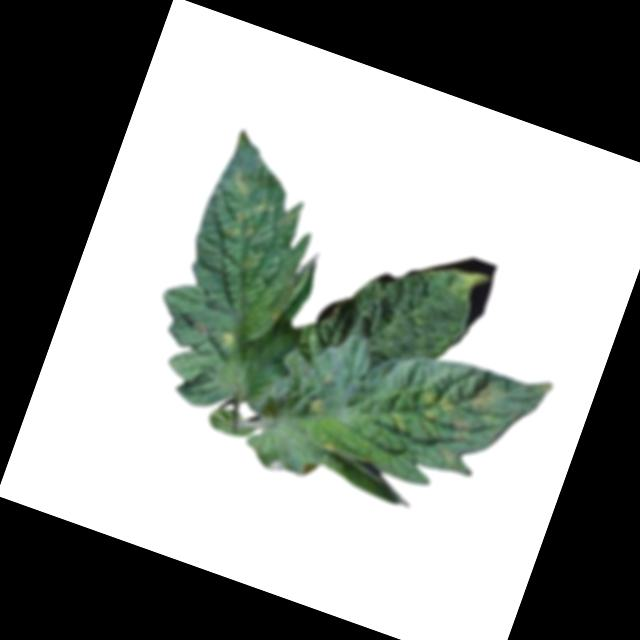Leaf_Mold: (374, 370, 459, 450), (432, 257, 491, 301), (220, 163, 258, 201), (214, 326, 238, 350)
